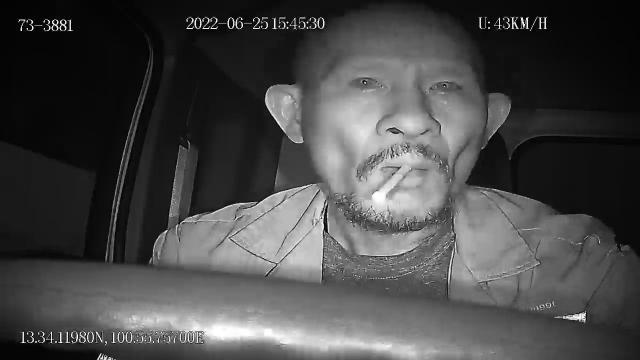SafeDriving: (416, 65, 472, 100), (343, 63, 396, 96)
Smoking: (374, 166, 410, 202)
